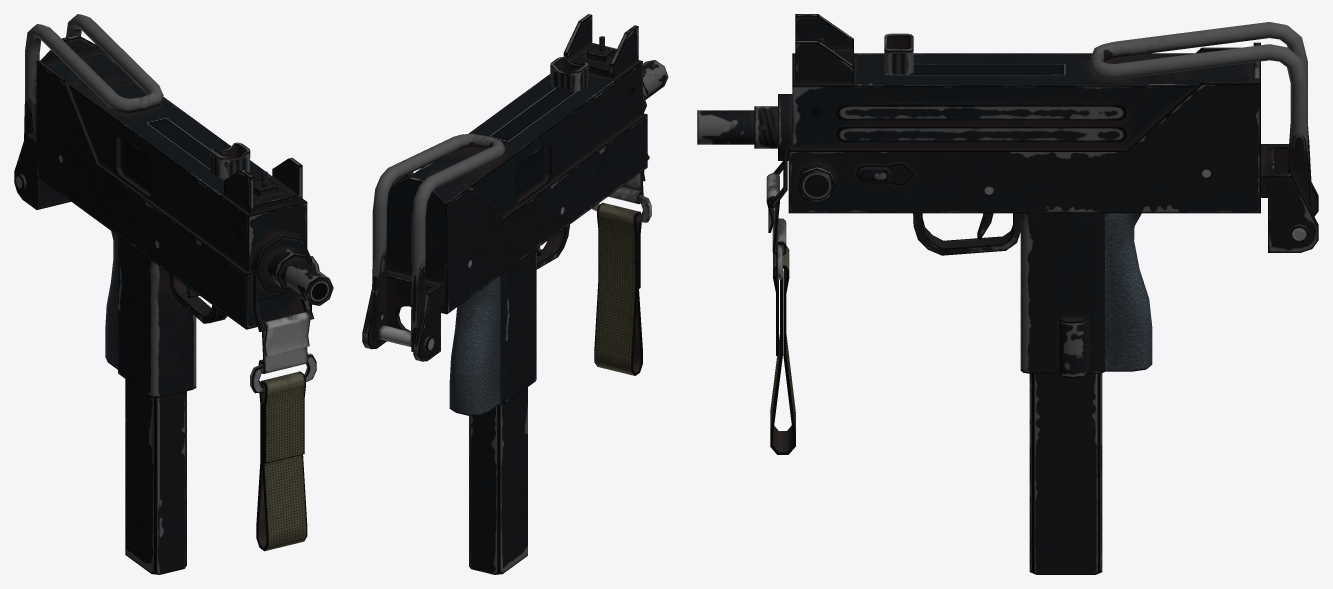
File: MAC-10.fbx
3 views of the same model, side by side, from view 1: azimuth 30°, elevation 25°; view 2: azimuth 150°, elevation 25°; view 3: azimuth 270°, elevation 25° (orthographic). The views are drawn at different scales.
Parts seen in each view (by area): view 1: MAC-10; view 2: MAC-10; view 3: MAC-10.
Part boxes in pixels (x1,y1,x2,y2): MAC-10: [14, 14, 333, 574]; MAC-10: [362, 14, 668, 574]; MAC-10: [697, 14, 1318, 574].
Bounding box in the file's own units: 48.38 × 279 × 292.
